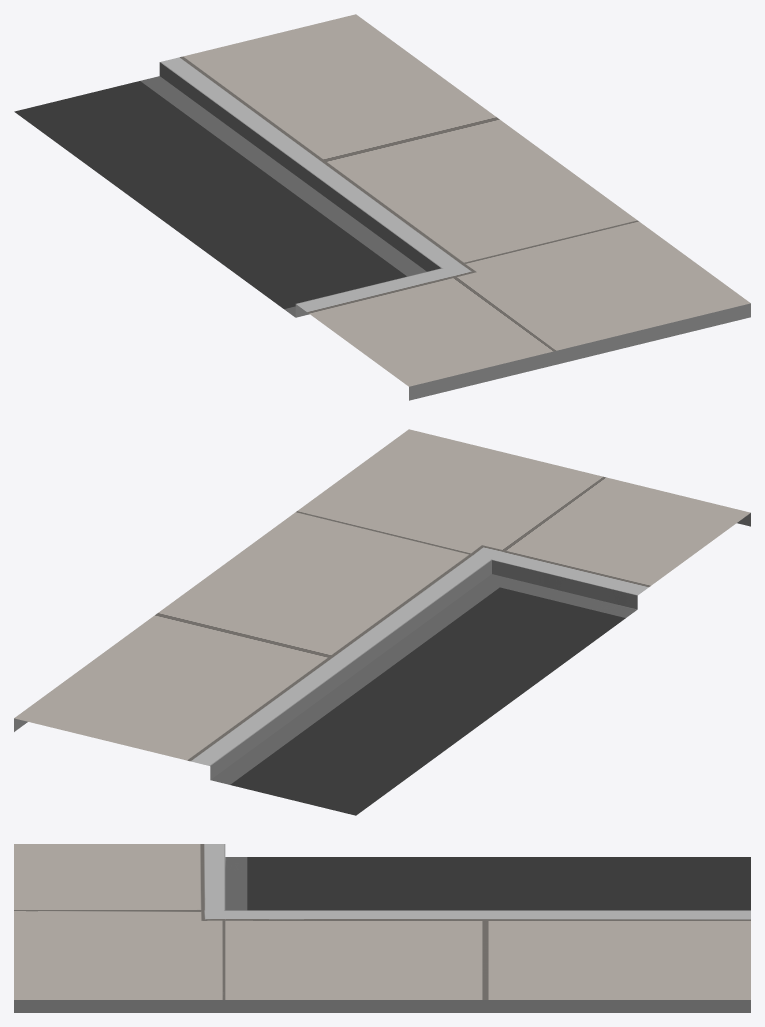
The model's file is road_bend_left_mesh.fbx.
3 renders of one model, top to bottom at view 1: azimuth 30°, elevation 25°; view 2: azimuth 150°, elevation 25°; view 3: azimuth 270°, elevation 25°, orthographic. The views are drawn at different scales.
Parts seen in each view (by area): view 1: road_bend_left_mesh; view 2: road_bend_left_mesh; view 3: road_bend_left_mesh.
Boxes of the visible parts, left/top/right/bottom form: road_bend_left_mesh: left=14, top=14, right=750, bottom=400; road_bend_left_mesh: left=14, top=429, right=750, bottom=815; road_bend_left_mesh: left=14, top=844, right=750, bottom=1012.
Bounding box in the file's own units: 0.05 × 0.00195 × 0.1.
1 material, 1 textured.
